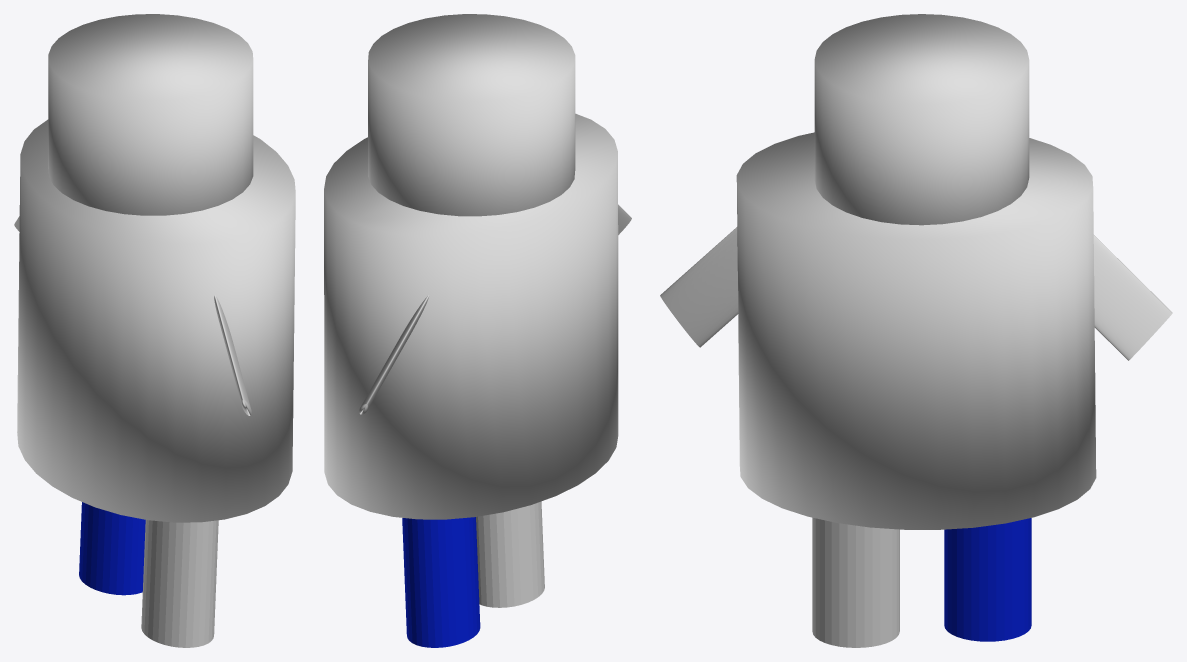
3 renders of one model, left to right at view 1: azimuth 30°, elevation 25°; view 2: azimuth 150°, elevation 25°; view 3: azimuth 270°, elevation 25°, orthographic. The views are drawn at different scales.
Parts seen in each view (by area): view 1: Cylinder, Cylinder.001, Cylinder.006, Cylinder.003, Cylinder.004; view 2: Cylinder, Cylinder.001, Cylinder.003, Cylinder.006, Cylinder.005; view 3: Cylinder, Cylinder.001, Cylinder.006, Cylinder.003, Cylinder.005, Cylinder.004.
Boxes of the visible parts, box(x1,y1,x2,y2) form: Cylinder: box(17, 119, 295, 522); Cylinder.001: box(48, 14, 253, 215); Cylinder.006: box(141, 520, 218, 647); Cylinder.003: box(79, 502, 145, 595); Cylinder.004: box(214, 295, 251, 415); Cylinder: box(324, 113, 618, 519); Cylinder.001: box(368, 14, 575, 216); Cylinder.003: box(402, 517, 480, 647); Cylinder.006: box(476, 501, 544, 607); Cylinder.005: box(359, 295, 429, 414); Cylinder: box(736, 132, 1096, 529); Cylinder.001: box(814, 14, 1029, 225); Cylinder.006: box(812, 517, 899, 647); Cylinder.003: box(944, 518, 1031, 641); Cylinder.005: box(1093, 235, 1172, 360); Cylinder.004: box(660, 227, 738, 347).
Bounding box in the file's own units: 460 × 1066 × 860.
